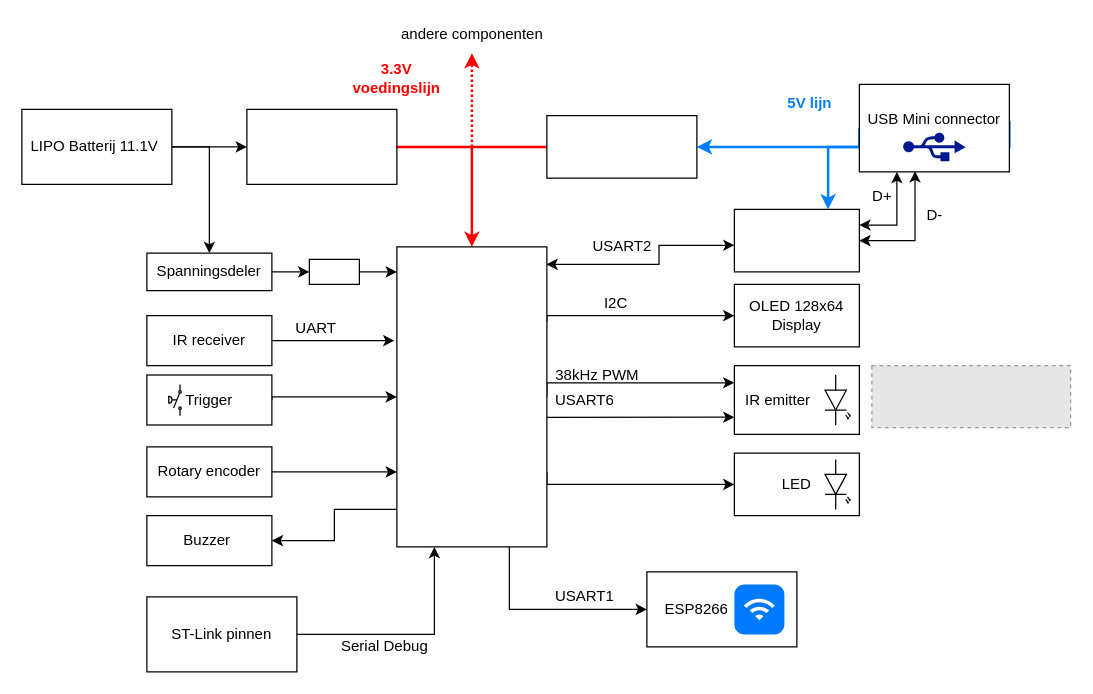
Image size: 1093x694. Some labels were removed from this diagram. Grey dashed boxes stand in for pictures. Each missing label, with the box of its shape:
ADC: (308, 258, 359, 284)
AMS1117-3.3 Spanningsregelaar: (546, 114, 697, 178)
FTDI FT232RL: (733, 208, 859, 272)
Microcontroller STM32F4: (396, 246, 547, 547)
Step Down Buck converter 3.3V: (246, 108, 397, 184)
